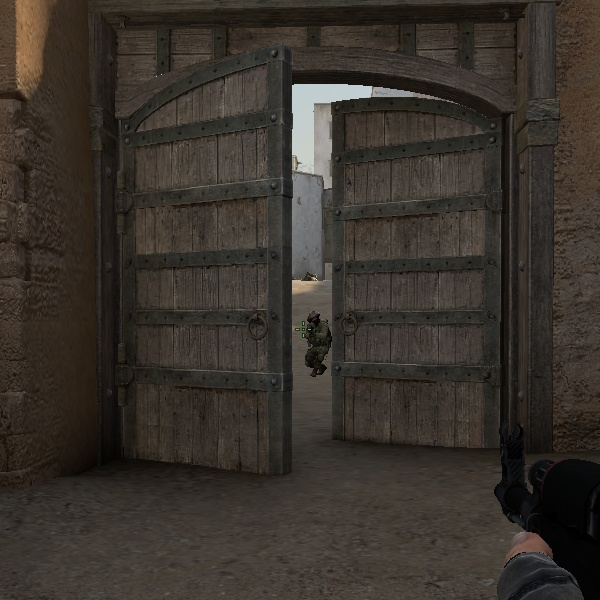ct_body: (297, 309, 331, 378)
ct_head: (304, 310, 325, 329)
